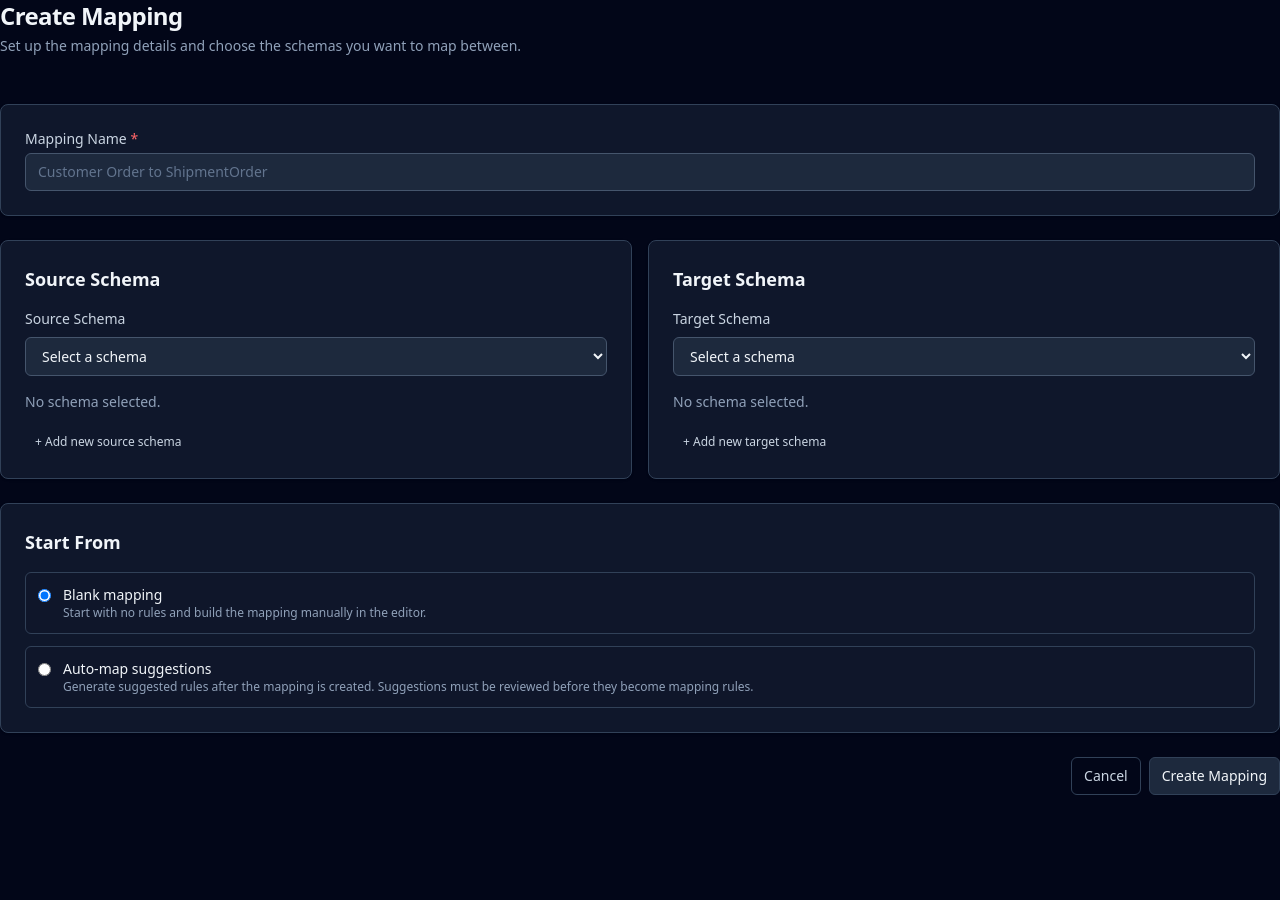
it: CreateMappingPage (FS-088 T-08) › AE-06: opens add-schema flow from source card without navigating away
Click the button with test id "add-source-schema-button". click: [108, 442]
box: x1=25 y1=430 x2=192 y2=454
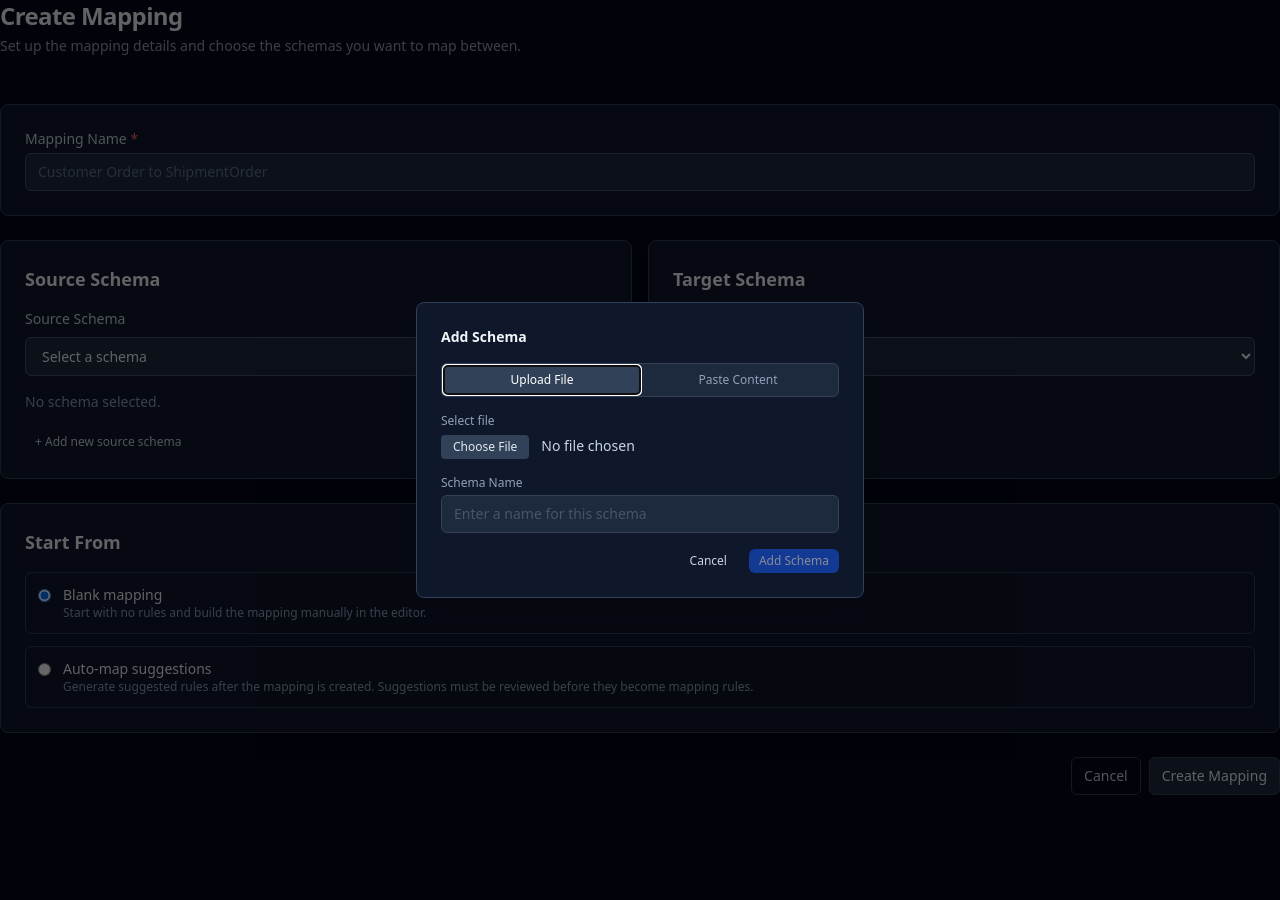
Expected: the dialog with test id "schema-upload-dialog" is shown, x1=416 y1=302 x2=864 y2=598
